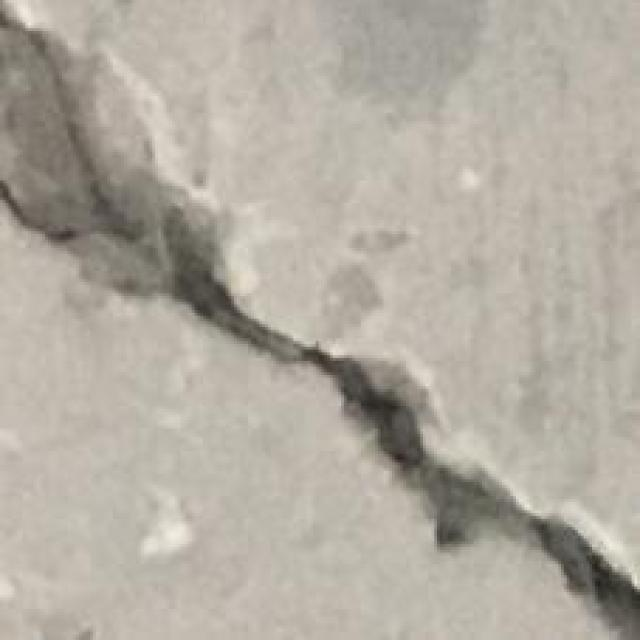Crack: (3, 11, 640, 634)
